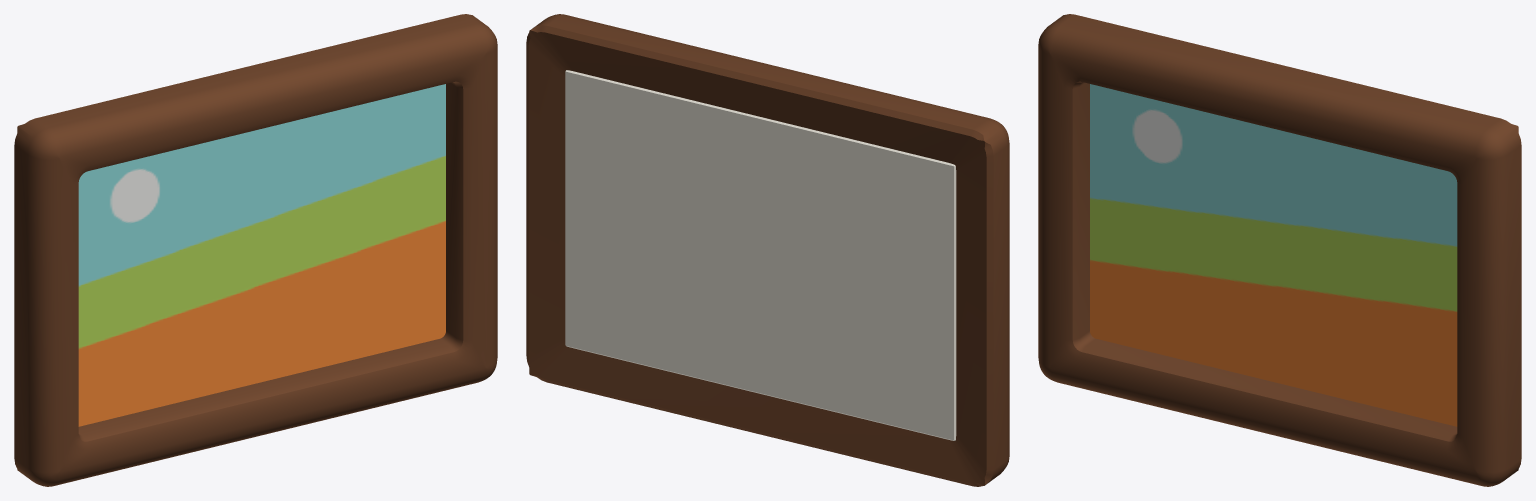
The model's file is quadro_campo_faixas.glb.
3 views of the same model, side by side, from view 1: azimuth 30°, elevation 25°; view 2: azimuth 150°, elevation 25°; view 3: azimuth 330°, elevation 25° (orthographic).
Parts seen in each view (by area): view 1: quadro_campo_faixas; view 2: quadro_campo_faixas; view 3: quadro_campo_faixas.
Boxes of the visible parts, bbox=[...] form: quadro_campo_faixas: bbox=[14, 14, 497, 486]; quadro_campo_faixas: bbox=[526, 14, 1009, 486]; quadro_campo_faixas: bbox=[1038, 14, 1521, 486].
Size of the model in its own units: 0.296 by 0.216 by 0.03.
2 materials, 2 textured.
